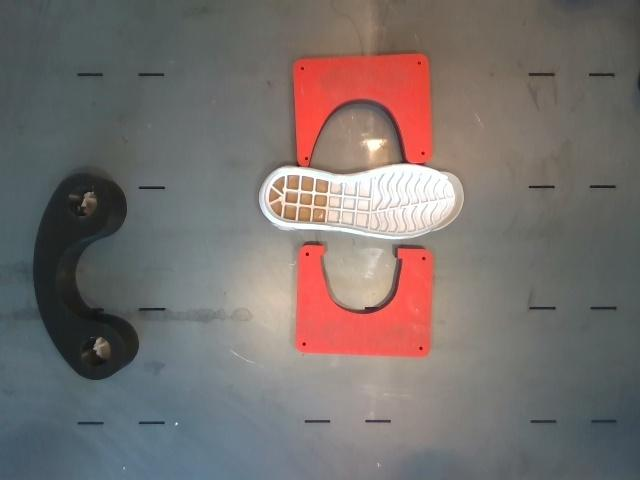shoes: (264, 166, 464, 236)
